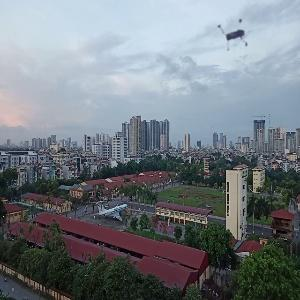drone: (210, 5, 263, 58)
